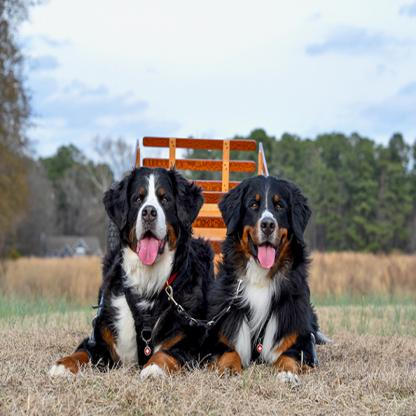Bernese Mountain: (214, 141, 317, 371), (97, 156, 200, 341)
